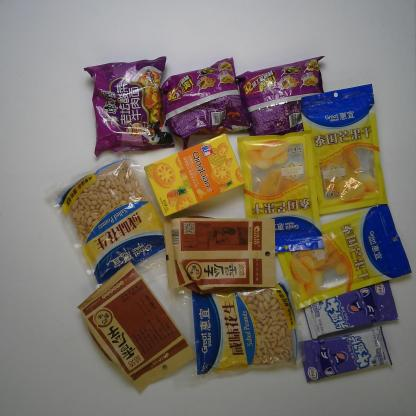Candy: (303, 279, 400, 340), (298, 325, 393, 382)
Dessert: (143, 131, 247, 219)
Dried Food: (76, 260, 198, 395), (159, 214, 278, 295)
Dried Fruit: (43, 146, 164, 291), (276, 202, 413, 310), (177, 276, 306, 382), (299, 83, 389, 217), (236, 129, 326, 253)
Instant Noodles: (82, 55, 176, 157), (158, 56, 253, 139), (234, 55, 327, 137)
